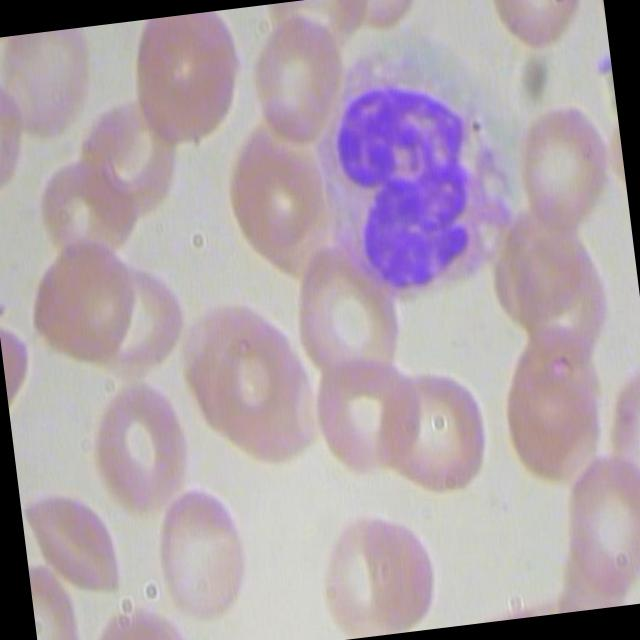RBC: (353, 344, 493, 506), (285, 234, 425, 396), (192, 318, 330, 478), (118, 8, 249, 158), (498, 96, 620, 246), (243, 0, 356, 150), (20, 230, 142, 364), (144, 483, 257, 622), (83, 371, 196, 510), (17, 466, 129, 605), (352, 500, 451, 636), (552, 444, 640, 594), (0, 26, 98, 145), (481, 0, 592, 58)
WBC: (292, 23, 534, 304)
